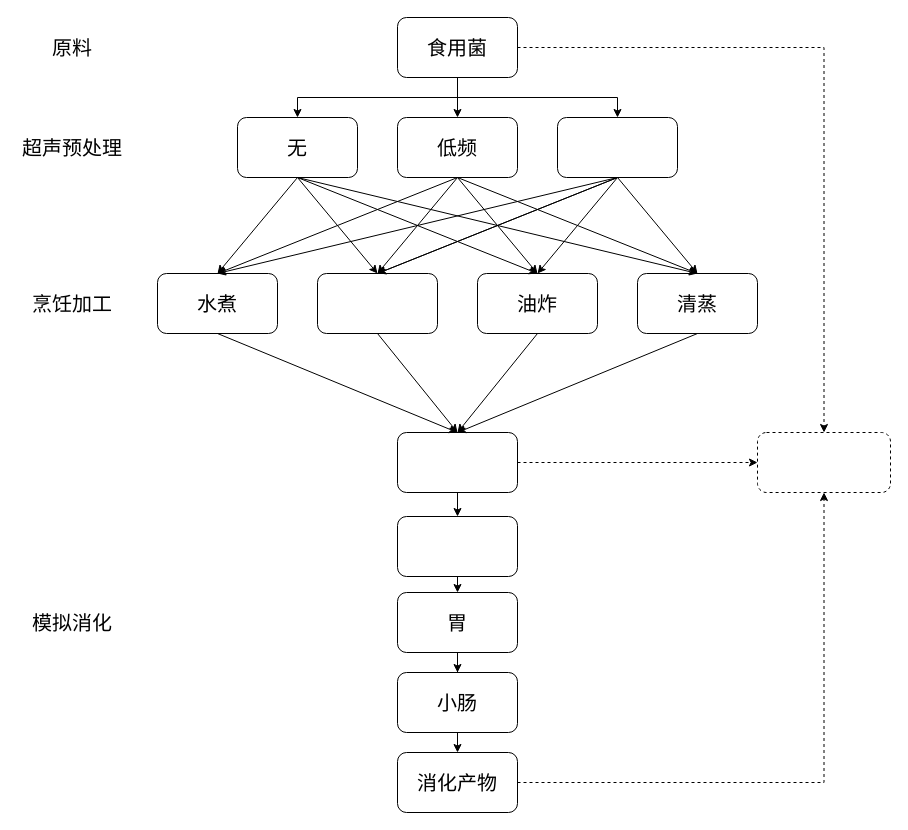
Image size: 908x830. Some labels were removed from this diagram. The shapes that lost their labels are listed below. From the top down, each one's box as (x1, y1, x2, y2) in pixels, then its label:
(556, 116, 678, 178): 高频
(316, 272, 438, 334): 蒸制
(396, 432, 518, 492): 加工后产物
(756, 432, 890, 492): 营养成分分析
(396, 516, 518, 576): 口腔
